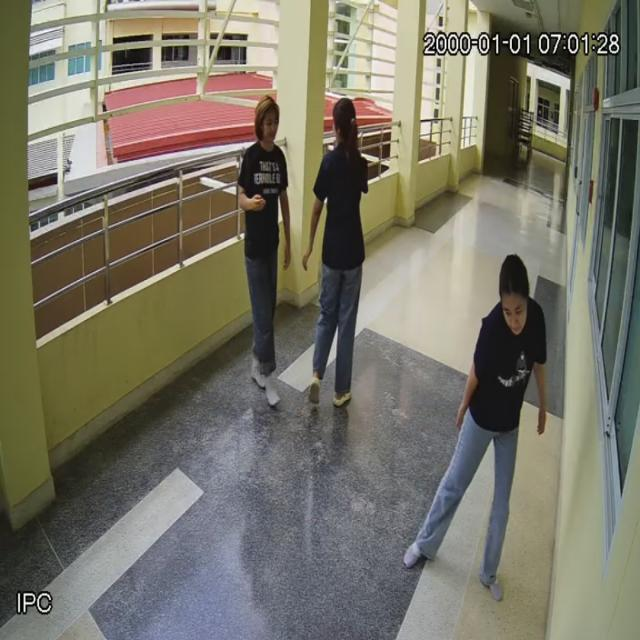normal: (403, 256, 549, 599), (239, 91, 301, 409), (312, 96, 369, 416)
